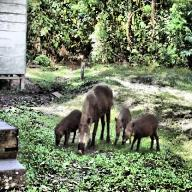boar: (74, 78, 116, 166), (125, 116, 166, 152), (52, 106, 83, 144), (112, 101, 134, 145)
